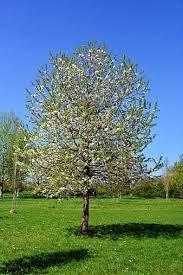tree: (17, 38, 158, 234)
